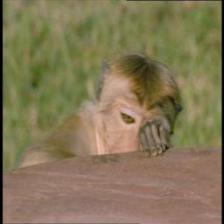monkey: (85, 57, 189, 157)
